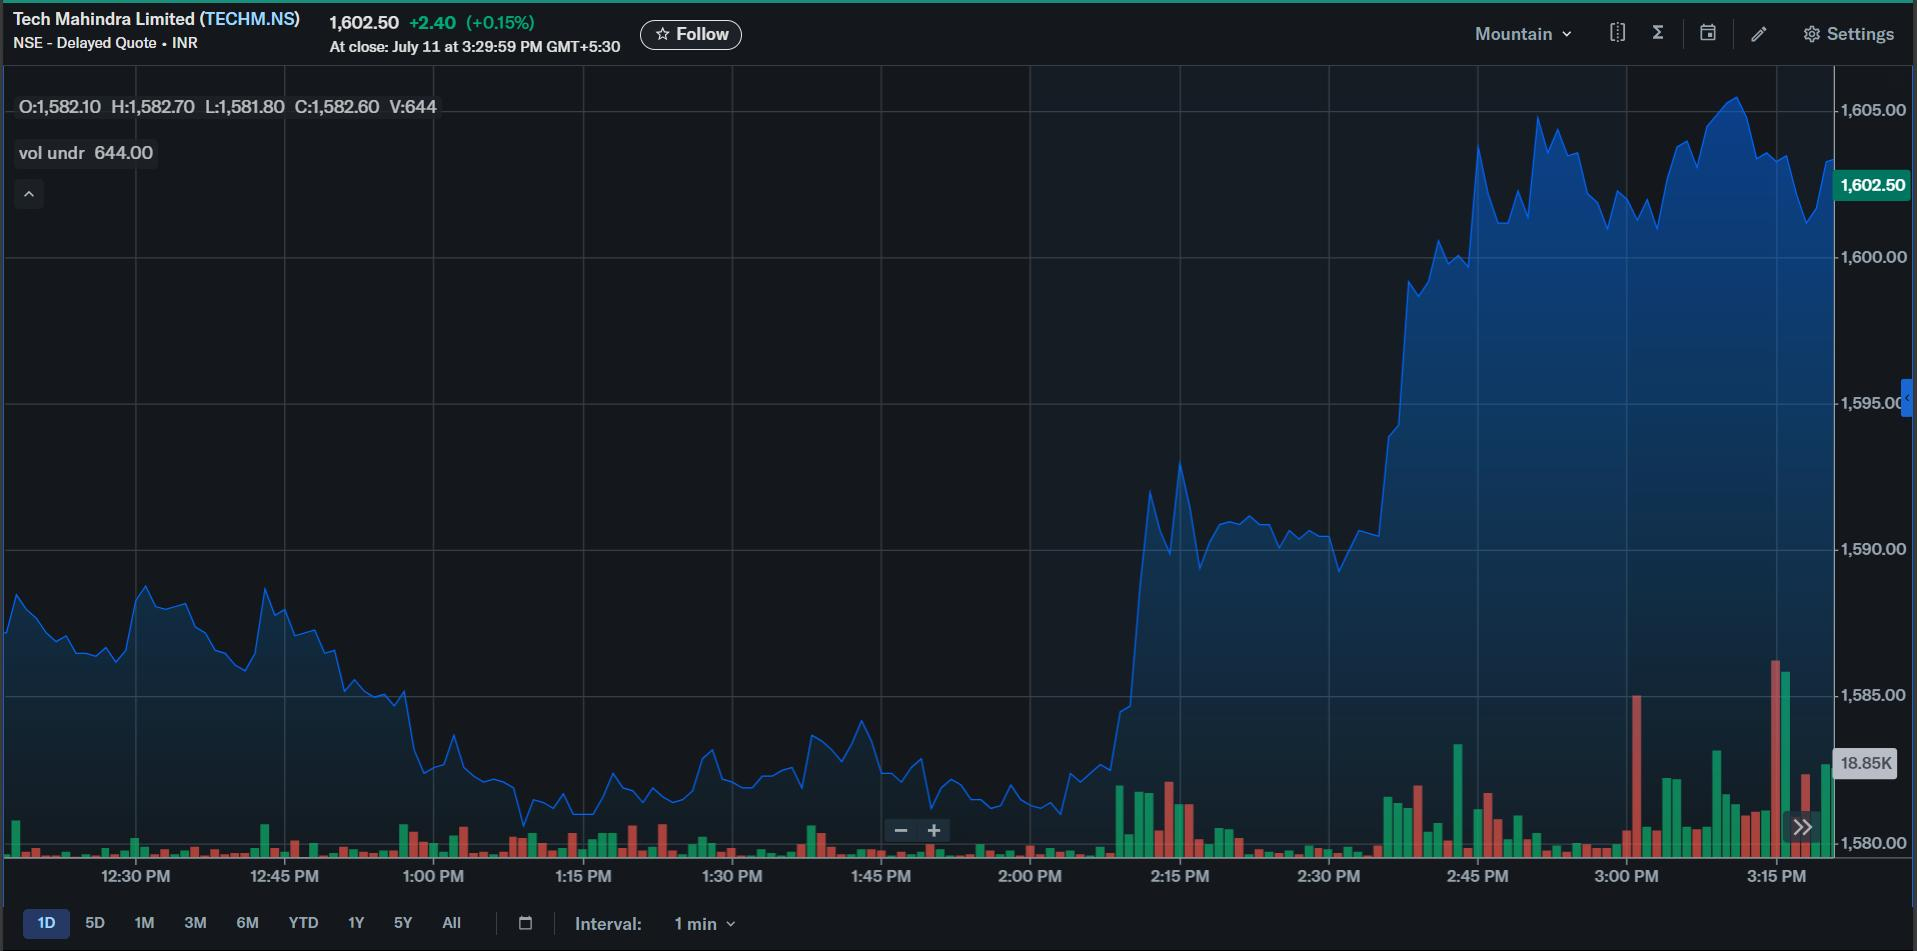Downtrend: (258, 518, 461, 795)
Sideways: (538, 705, 880, 826)
Uptrend: (1329, 222, 1426, 577), (1064, 464, 1158, 807), (1642, 71, 1742, 247)
